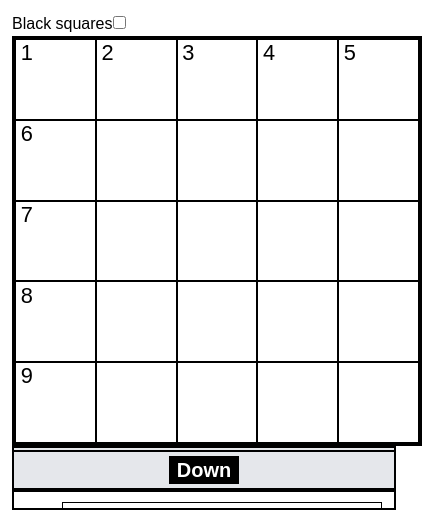
Test case: CrosswordGrid › clicking the selected square again switches to down
The image size is (439, 527).
Click the field named "Row 1, column 1, number 1". click: (55, 79)
box: [16, 40, 95, 119]
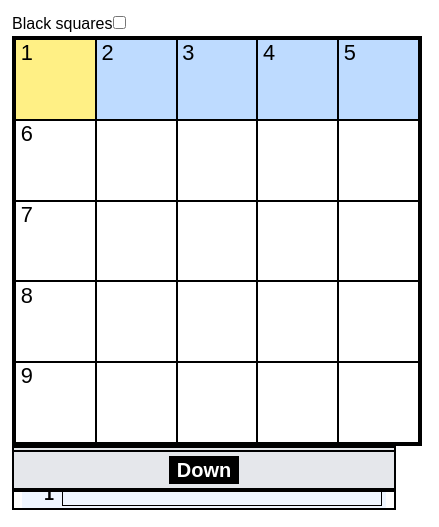
Click the field named "Row 1, column 1, number 1". click: (55, 79)
box: [16, 40, 95, 119]
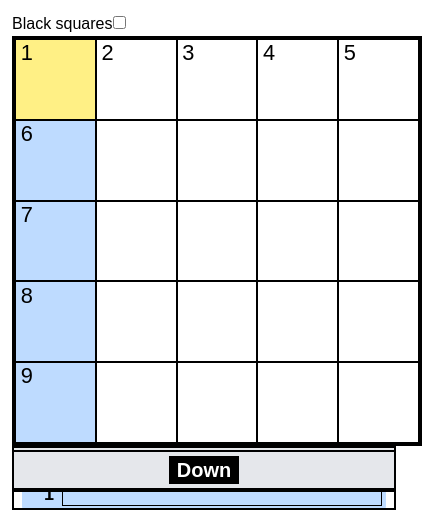
Type keys "do"
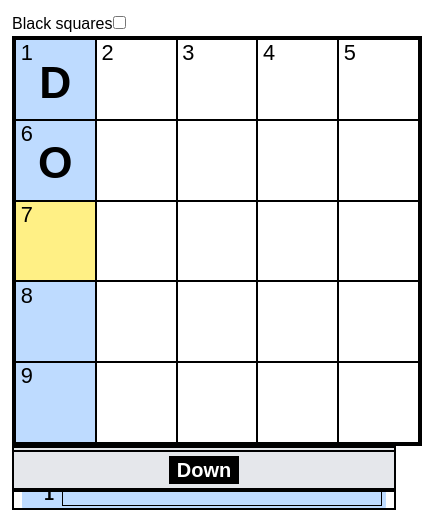
Now the field named "Row 1, column 1, number 1" holds "D", box [16, 40, 95, 119]
